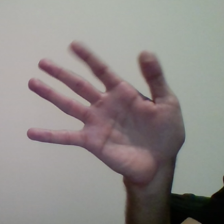left: (19, 32, 192, 187)
